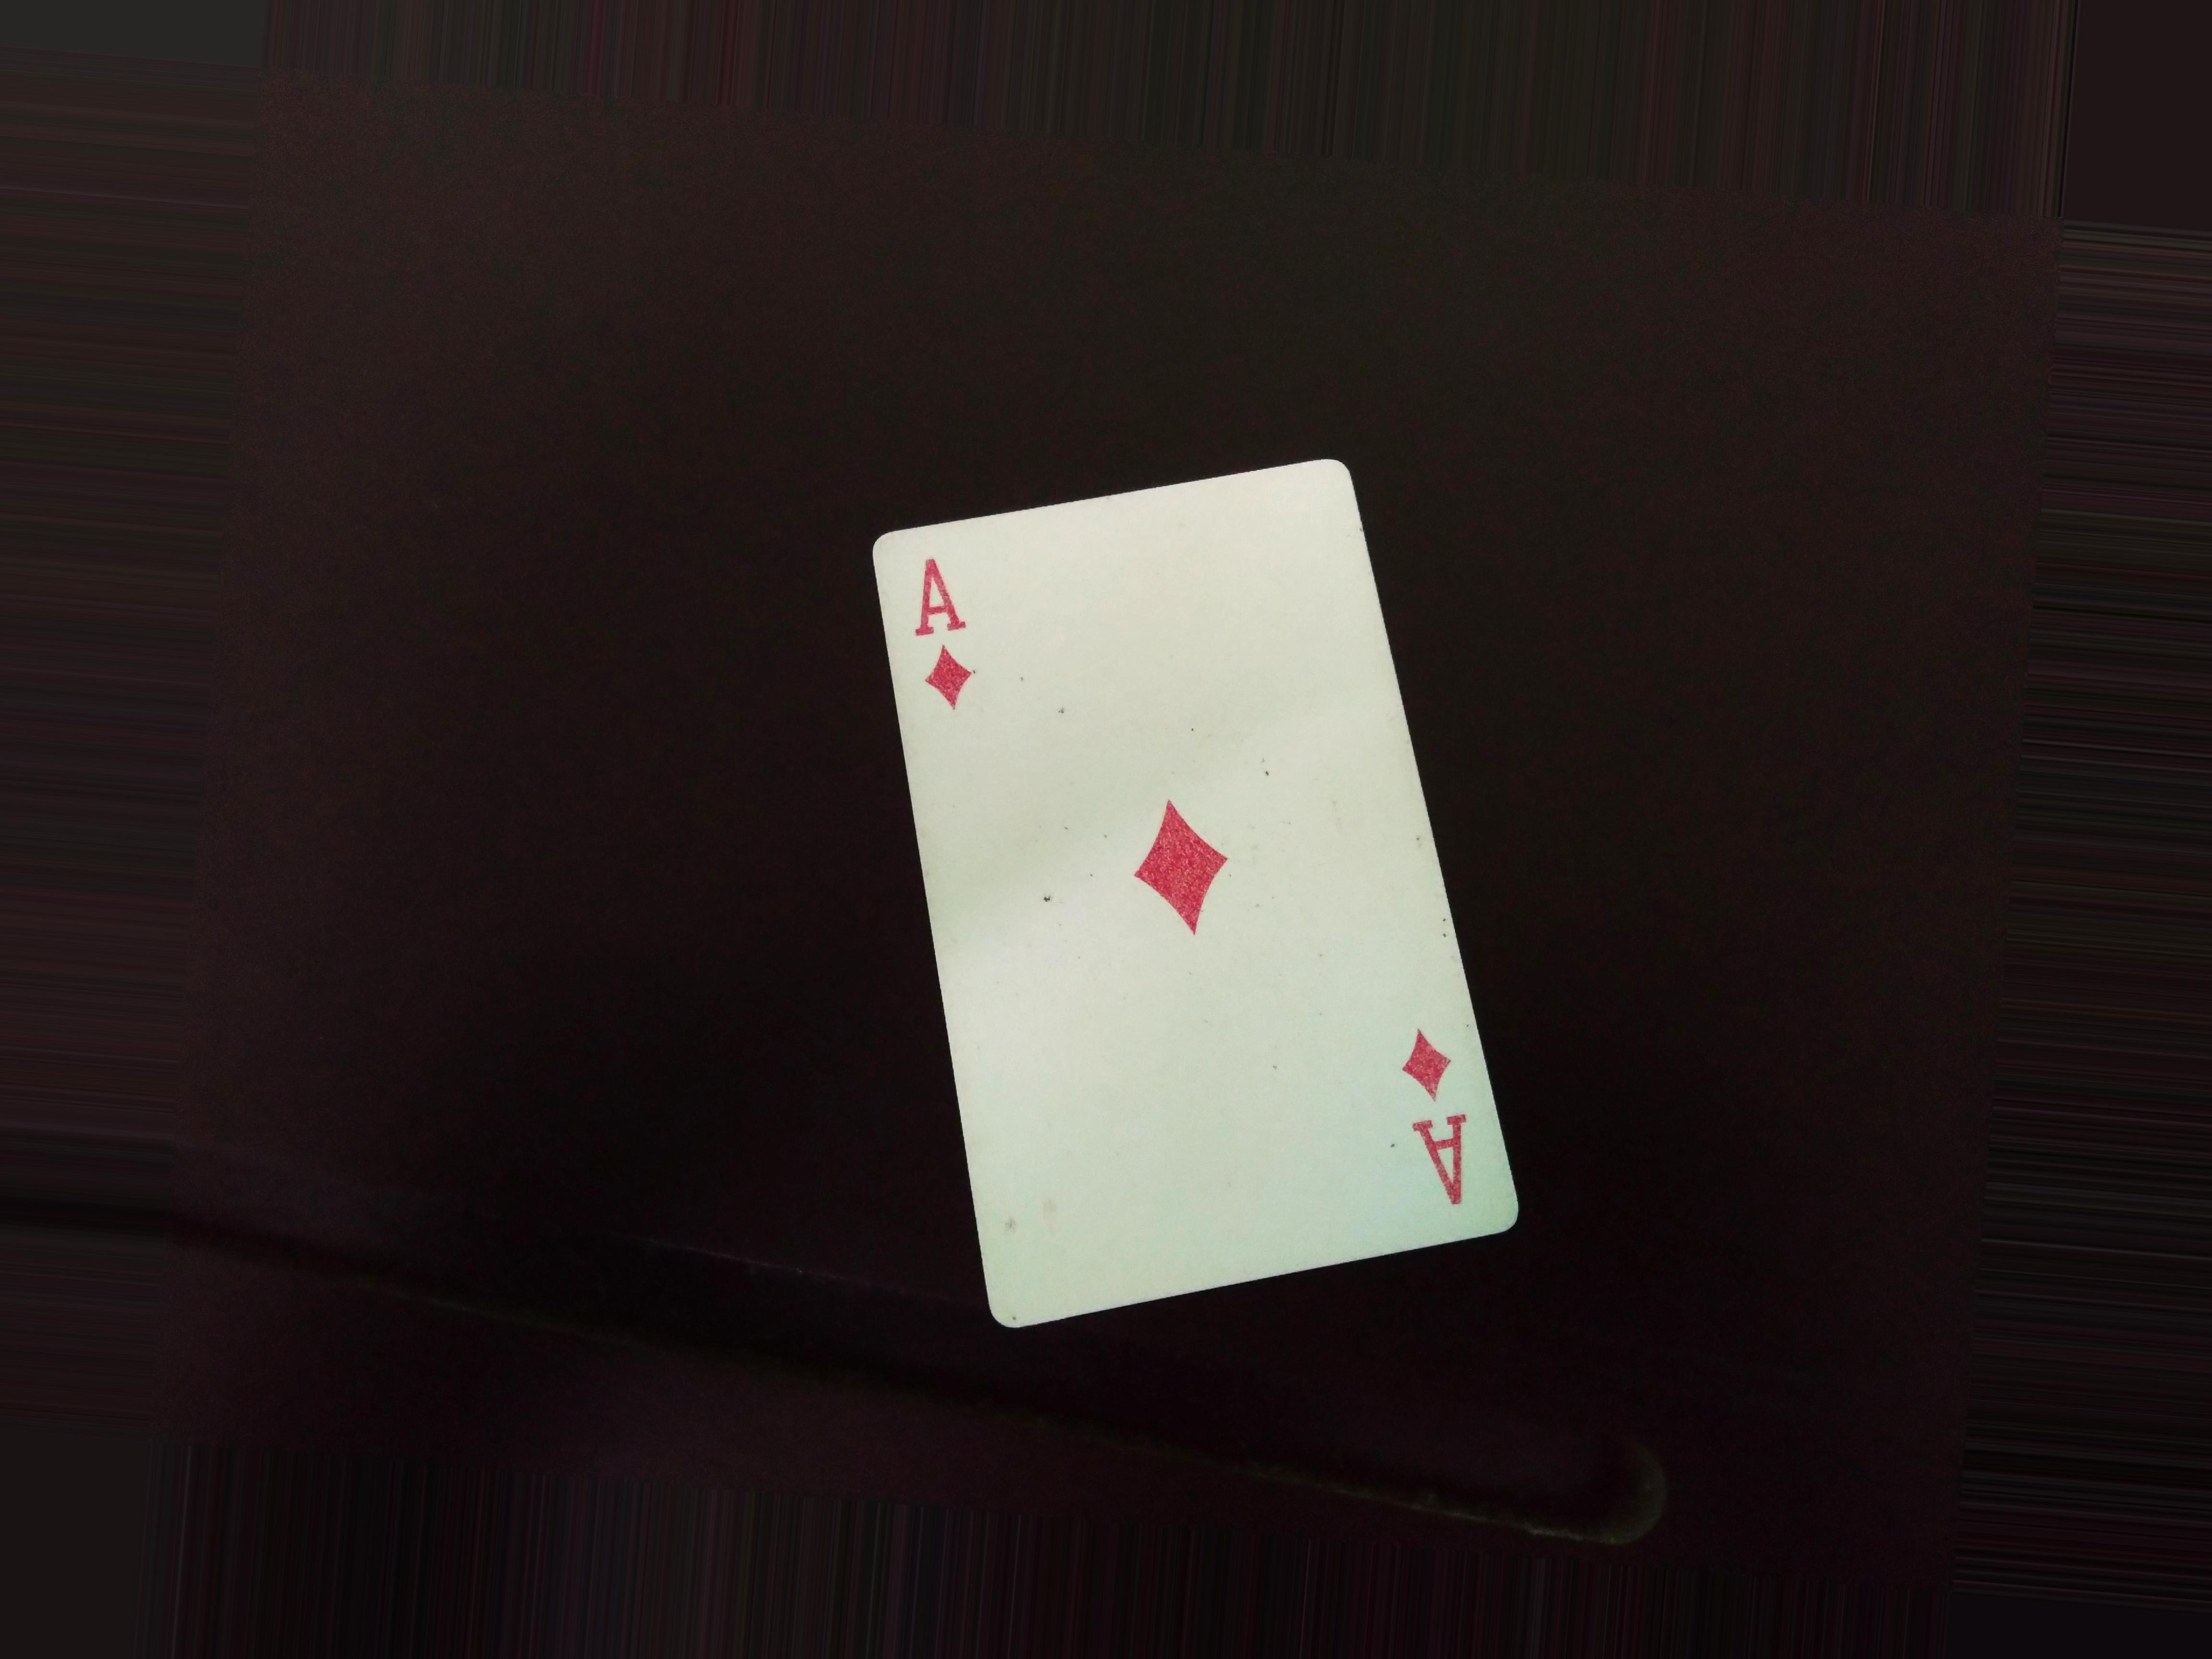AD: (911, 544, 970, 720)
